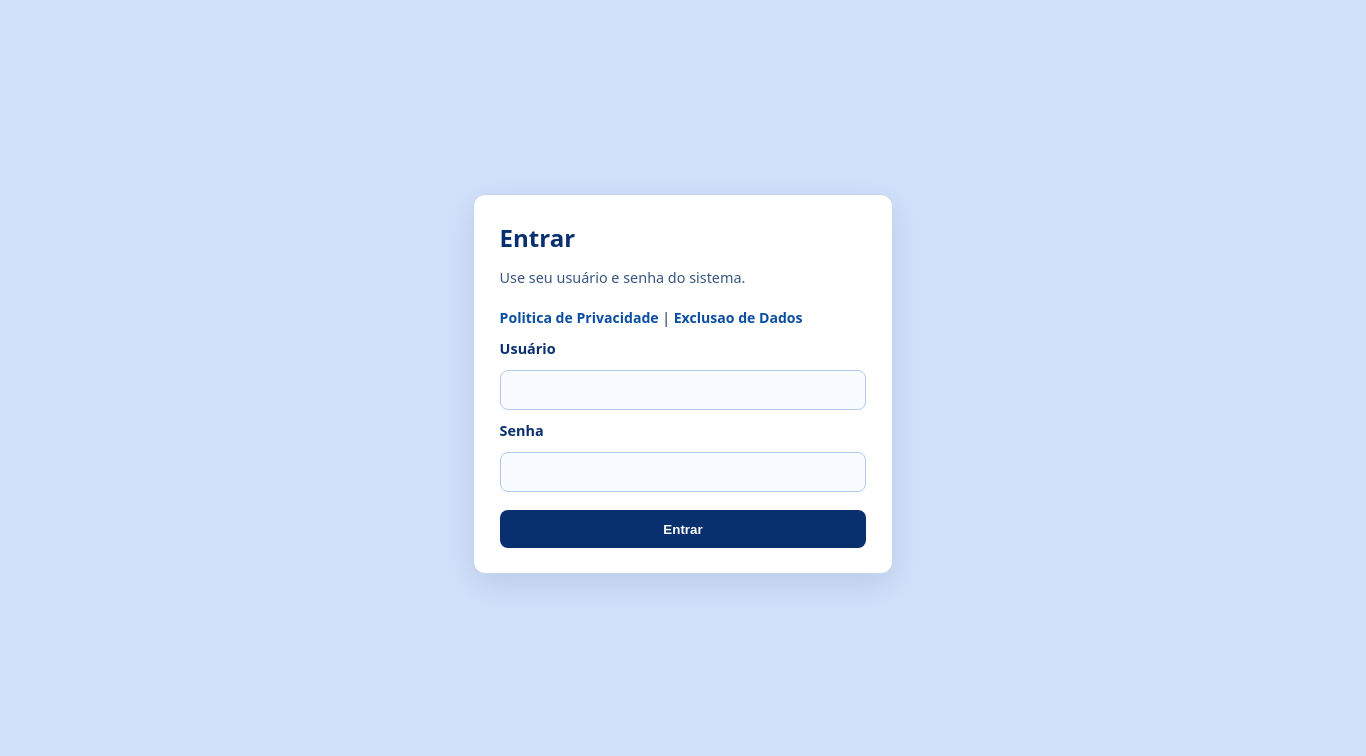
Test: App frontend flows › executes login flow with session/cookie auth endpoints
The image size is (1366, 756).
Expected: the heading "Entrar" is shown, [500,221,575,254]
Type "alice" into the field labelled "Usuário" at {"x": 683, "y": 390}, box [500,370,866,410]
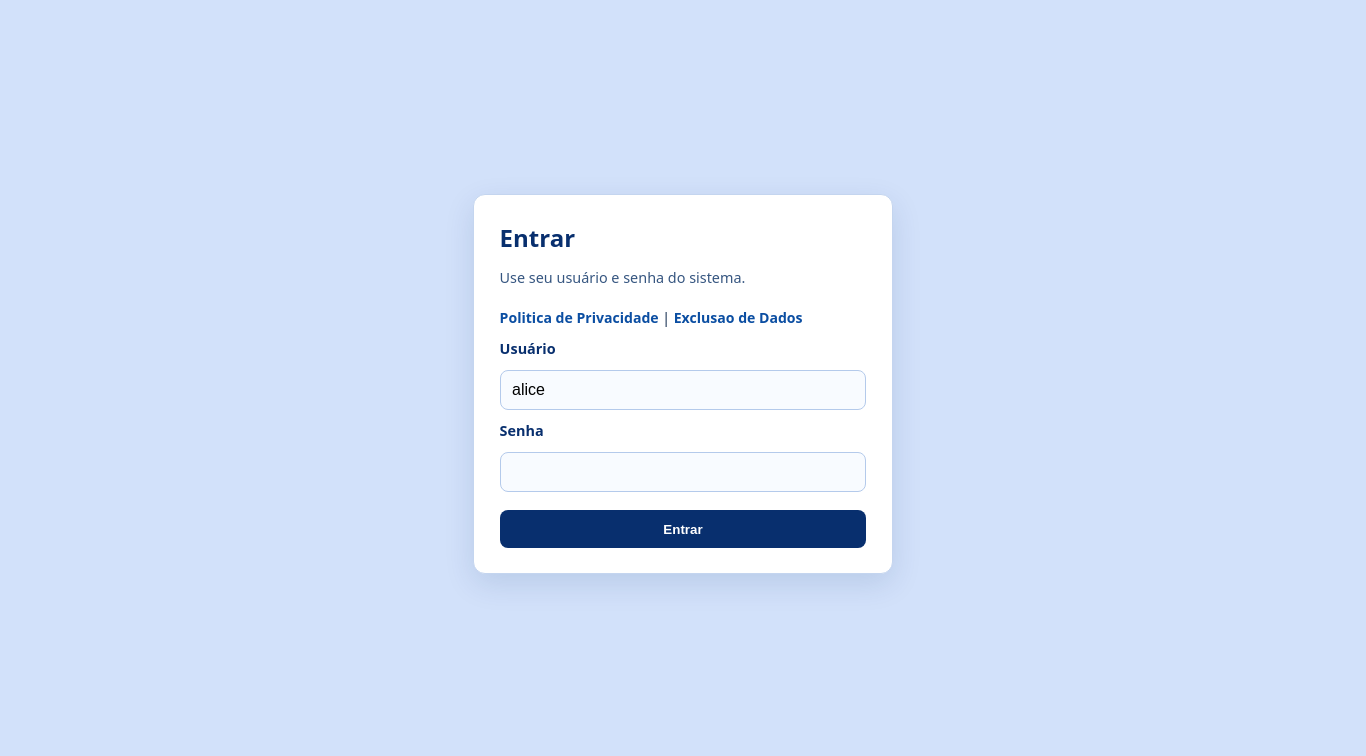
Type "Secret123!" into the password field labelled "Senha" at {"x": 683, "y": 472}, box [500,452,866,492]
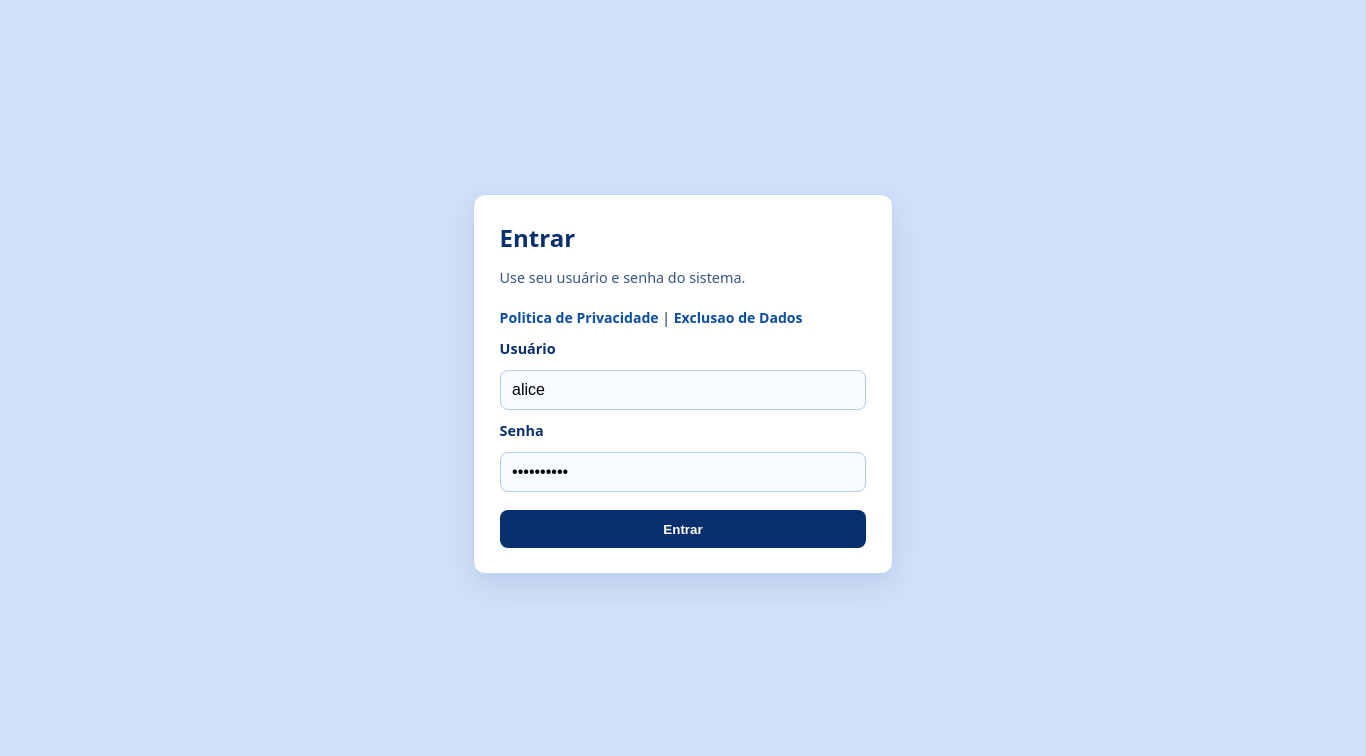
Click the button "Entrar" at {"x": 683, "y": 529}, box [500,510,866,548]
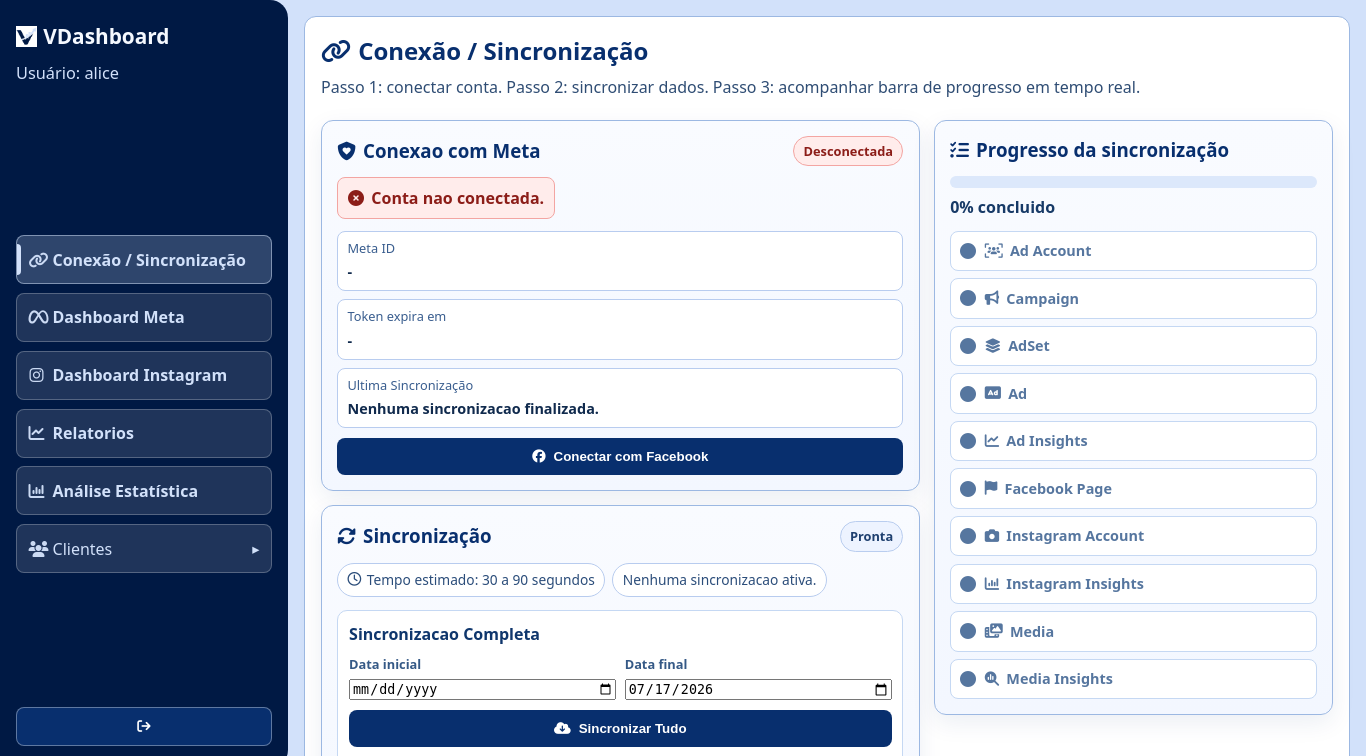
Expected: the heading "Conexão / Sincronização" is shown, [321,33,648,69]
